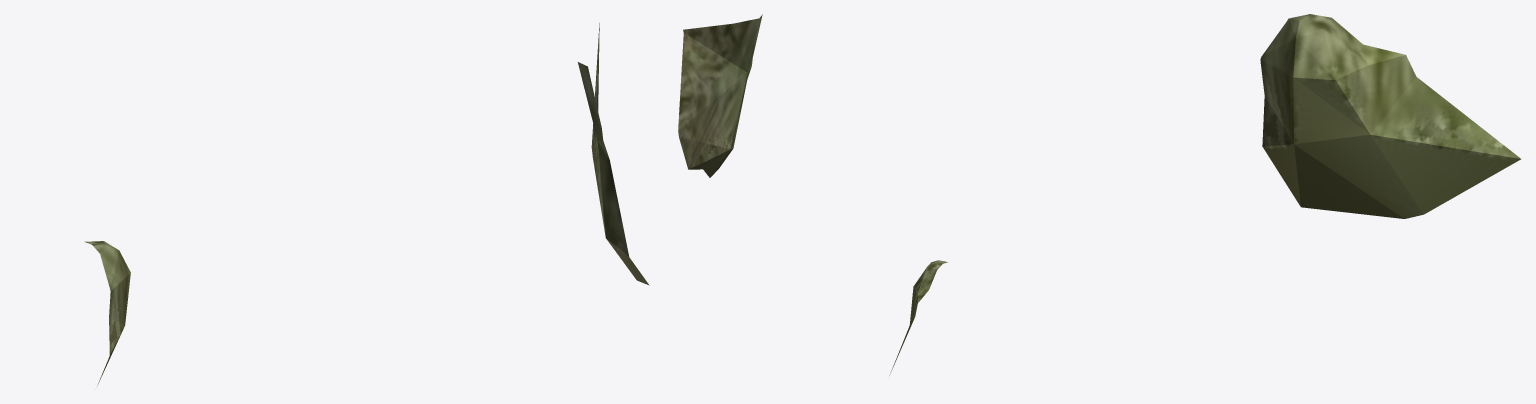
The picture shows the model from 3 angles, left to right: view 1: azimuth 30°, elevation 25°; view 2: azimuth 150°, elevation 25°; view 3: azimuth 270°, elevation 25°; orthographic projection. The views are drawn at different scales.
Bounding box in the file's own units: 2.95 × 2.1 × 2.31.
1 material, 1 textured.
